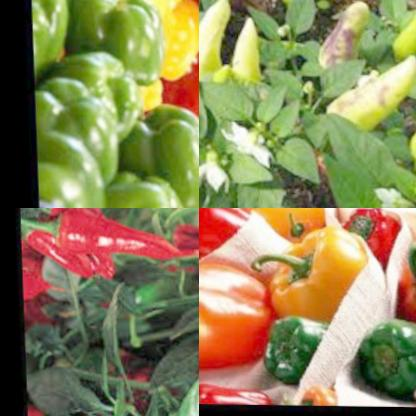bell pepper: (26, 0, 199, 208), (257, 220, 372, 319), (199, 258, 278, 376), (257, 309, 338, 386), (351, 311, 416, 396), (225, 208, 334, 246), (339, 208, 407, 258), (199, 208, 254, 267), (394, 228, 416, 328), (199, 375, 271, 403), (289, 380, 335, 404)
hot pepper: (311, 43, 416, 135), (49, 208, 186, 264), (18, 214, 109, 281), (311, 0, 373, 70), (199, 0, 243, 84), (228, 13, 264, 88), (19, 257, 67, 305), (386, 0, 416, 67), (400, 92, 416, 166), (204, 53, 233, 86), (22, 399, 61, 416)
